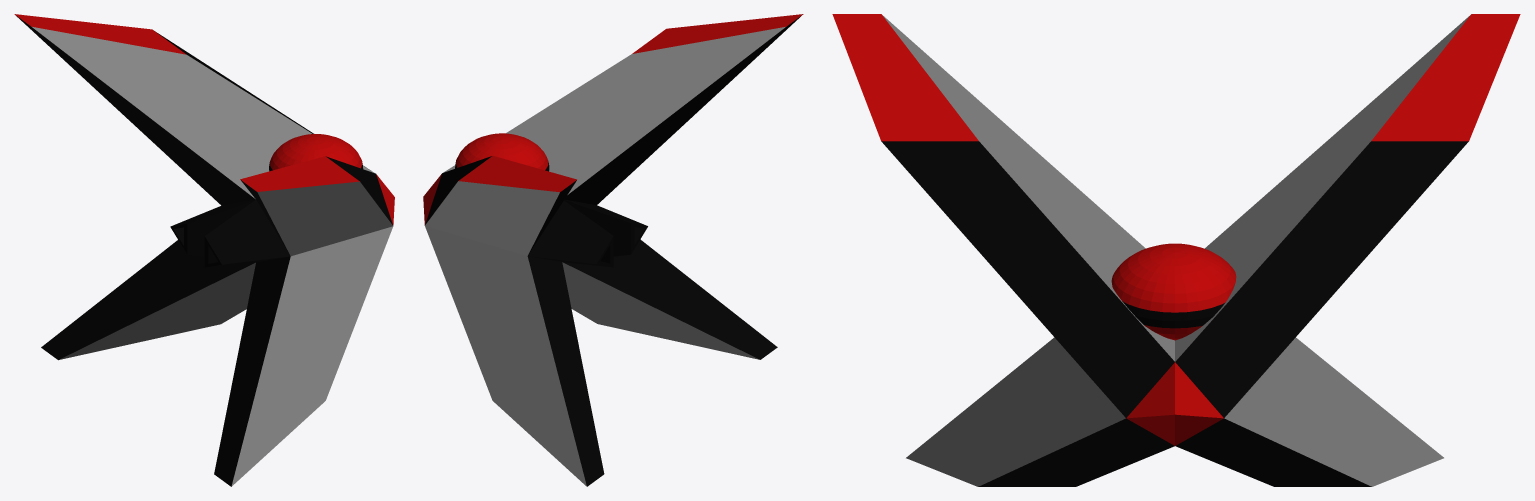
File: Minion F.fbx
3 renders of one model, left to right at view 1: azimuth 30°, elevation 25°; view 2: azimuth 150°, elevation 25°; view 3: azimuth 270°, elevation 25°, orthographic. The views are drawn at different scales.
Visible parts, largest first — view 1: Cube; view 2: Cube; view 3: Cube.
Part boxes in pixels (x1=…): Cube: x1=14, y1=14, x2=394, y2=486; Cube: x1=423, y1=14, x2=803, y2=486; Cube: x1=832, y1=14, x2=1520, y2=486.
Size of the model in its own units: 431 by 500 by 702.
